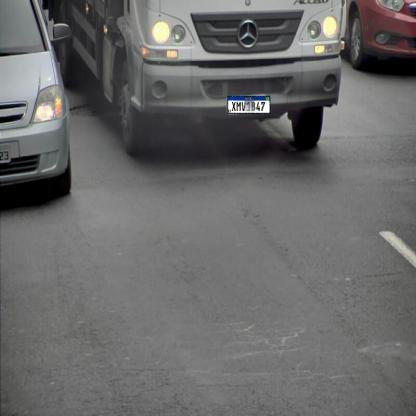PlacaM: (228, 96, 270, 113)
